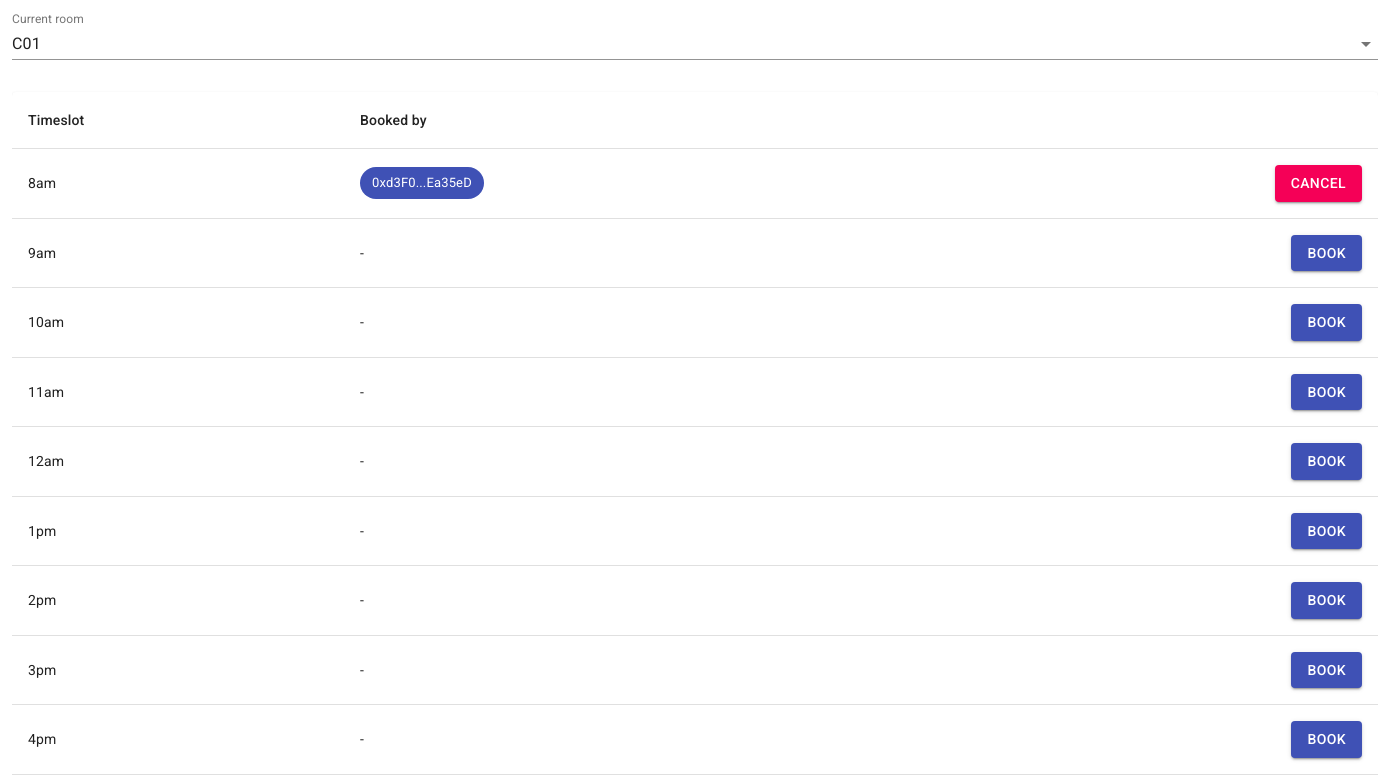
Test case: BookingTable › should show warning message and loader when cancelling a room
What coordinates should you click on to do the following:
click the button with test id "cancel-button-0"
I would click on:
 (1318, 183)
Its box is top-left (1275, 165), bottom-right (1362, 202).
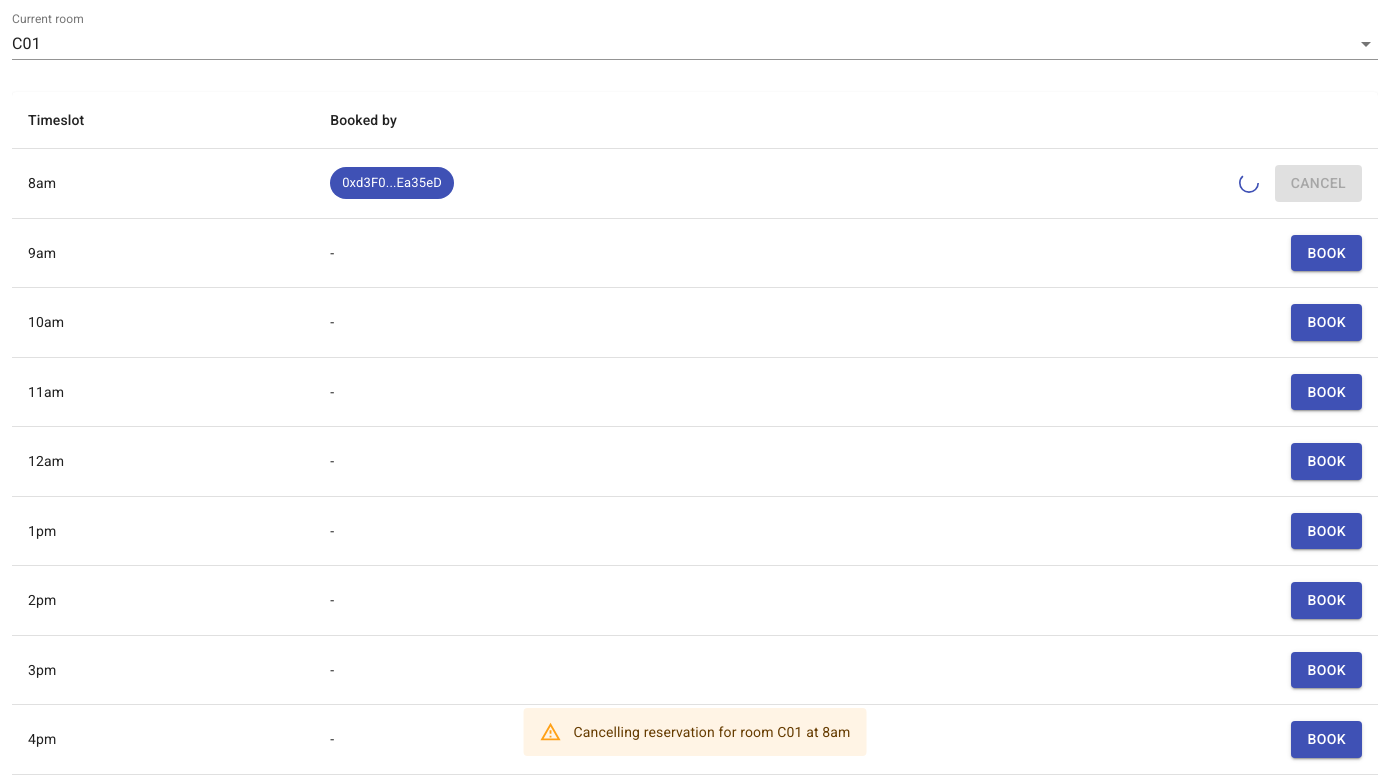
Check: the text "Cancelling reservation for room C01 at 8am" is shown, box top-left (574, 724), bottom-right (850, 740)
Check: the progress indicator with test id "loader-0" is shown, box top-left (1239, 173), bottom-right (1259, 193)
